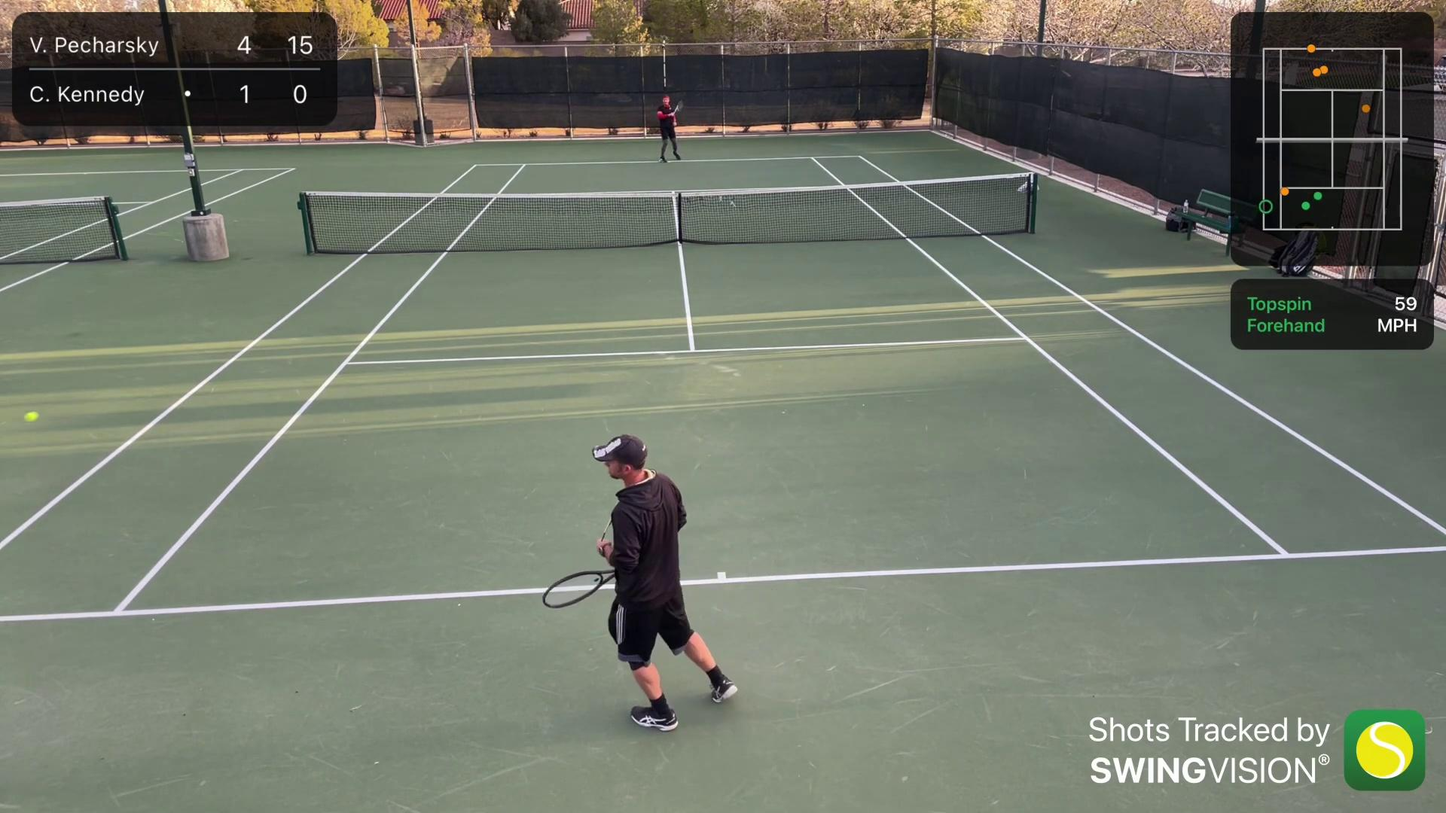ball: (19, 409, 44, 424)
